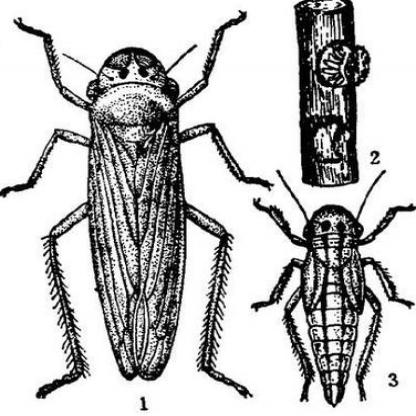Green-Leafhopper: (1, 5, 270, 404), (249, 179, 416, 416)
